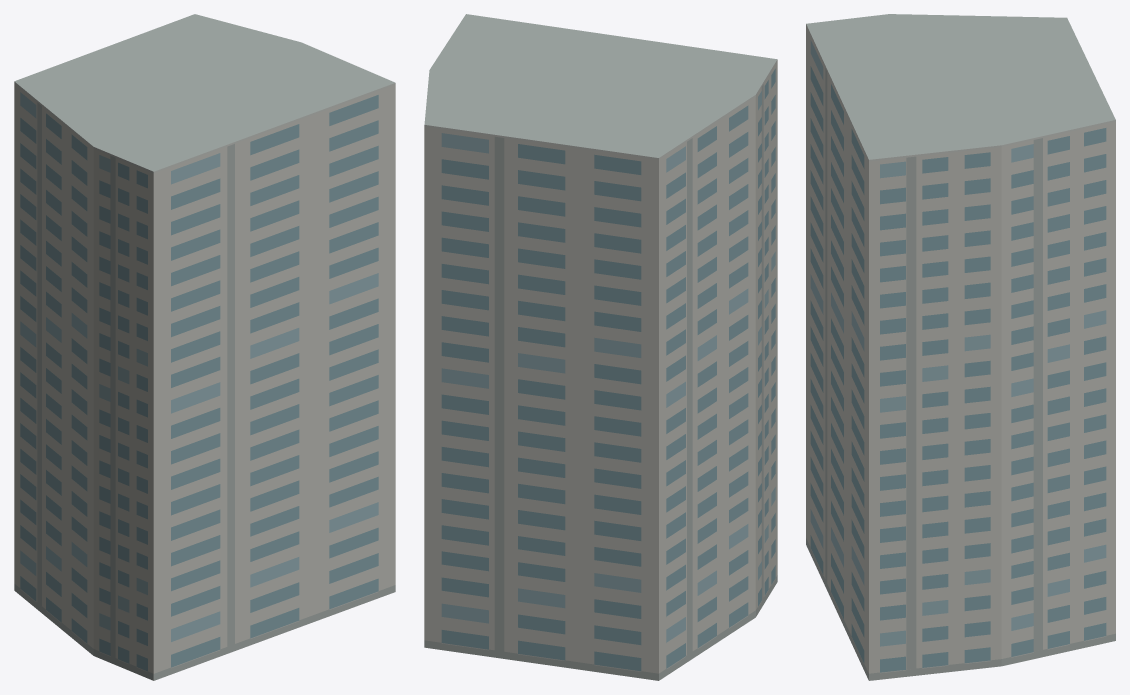
The model's file is residential-fb28e110-9ac0-4403-81cb-eb0e490d1165.glb.
3 views of the same model, side by side, from view 1: azimuth 30°, elevation 25°; view 2: azimuth 150°, elevation 25°; view 3: azimuth 270°, elevation 25° (orthographic). The views are drawn at different scales.
Visible parts, largest first — view 1: residential-fb28e110-9ac0-4403-81cb-eb0e490d1165.tmp; view 2: residential-fb28e110-9ac0-4403-81cb-eb0e490d1165.tmp; view 3: residential-fb28e110-9ac0-4403-81cb-eb0e490d1165.tmp.
Boxes of the visible parts, x1=… form: residential-fb28e110-9ac0-4403-81cb-eb0e490d1165.tmp: x1=14, y1=14, x2=395, y2=680; residential-fb28e110-9ac0-4403-81cb-eb0e490d1165.tmp: x1=424, y1=14, x2=777, y2=680; residential-fb28e110-9ac0-4403-81cb-eb0e490d1165.tmp: x1=806, y1=14, x2=1115, y2=680.
Bounding box in the file's own units: 40.24 × 67 × 36.11.
